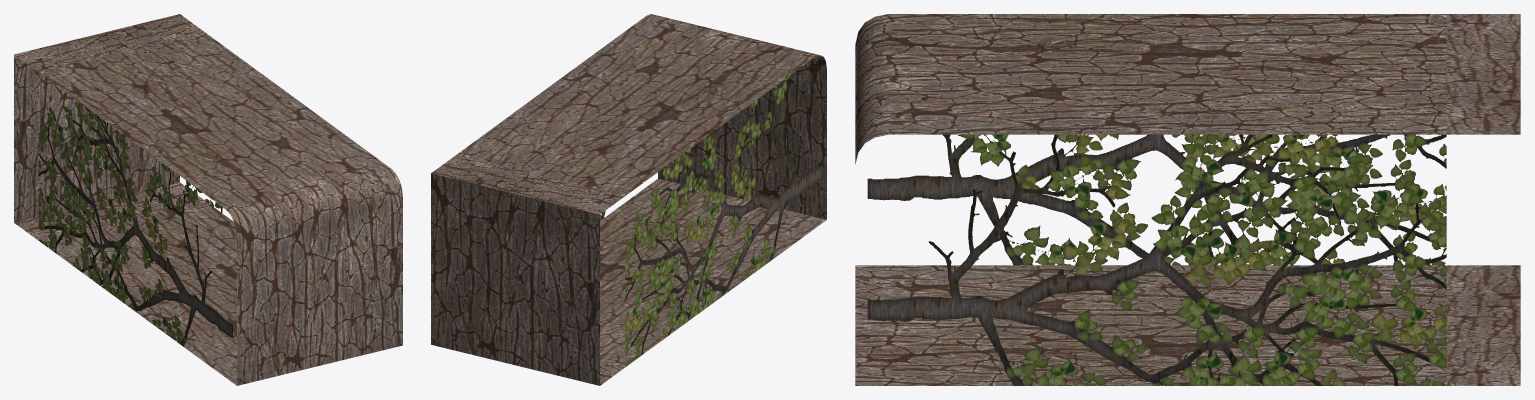
Rendered from crate_vent.FBX.
3 views of the same model, side by side, from view 1: azimuth 30°, elevation 25°; view 2: azimuth 150°, elevation 25°; view 3: azimuth 270°, elevation 25° (orthographic). The views are drawn at different scales.
Parts seen in each view (by area): view 1: crate_vent; view 2: crate_vent; view 3: crate_vent.
Part boxes in pixels (x1,y1,x2,y2): crate_vent: (14,14,402,385); crate_vent: (431,14,826,385); crate_vent: (855,14,1520,385).
Bounding box in the file's own units: 2.58 × 6 × 2.5.
